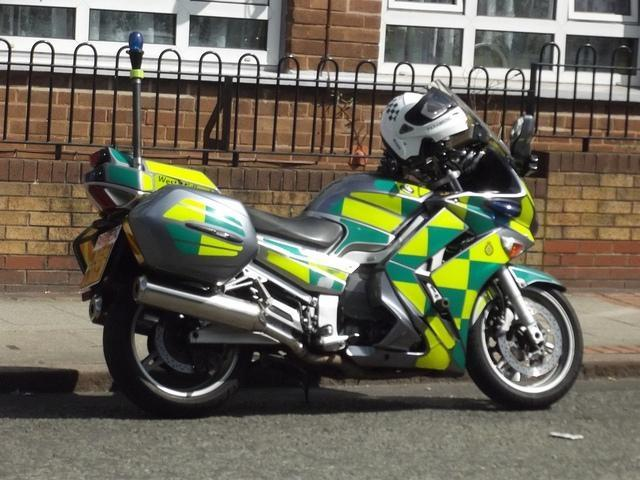motorcycle: (77, 82, 580, 416)
